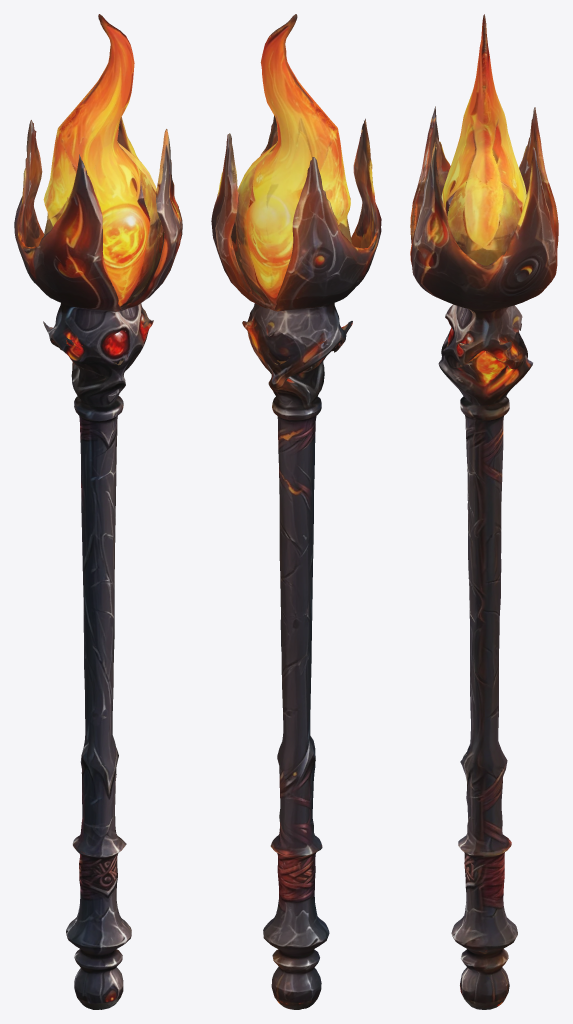
Rendered from infernal-dragonflare.glb.
3 views of the same model, side by side, from view 1: azimuth 30°, elevation 25°; view 2: azimuth 150°, elevation 25°; view 3: azimuth 270°, elevation 25° (orthographic).
Size of the model in its own units: 0.3141 by 2.01 by 0.2718.
1 material, 1 textured.
